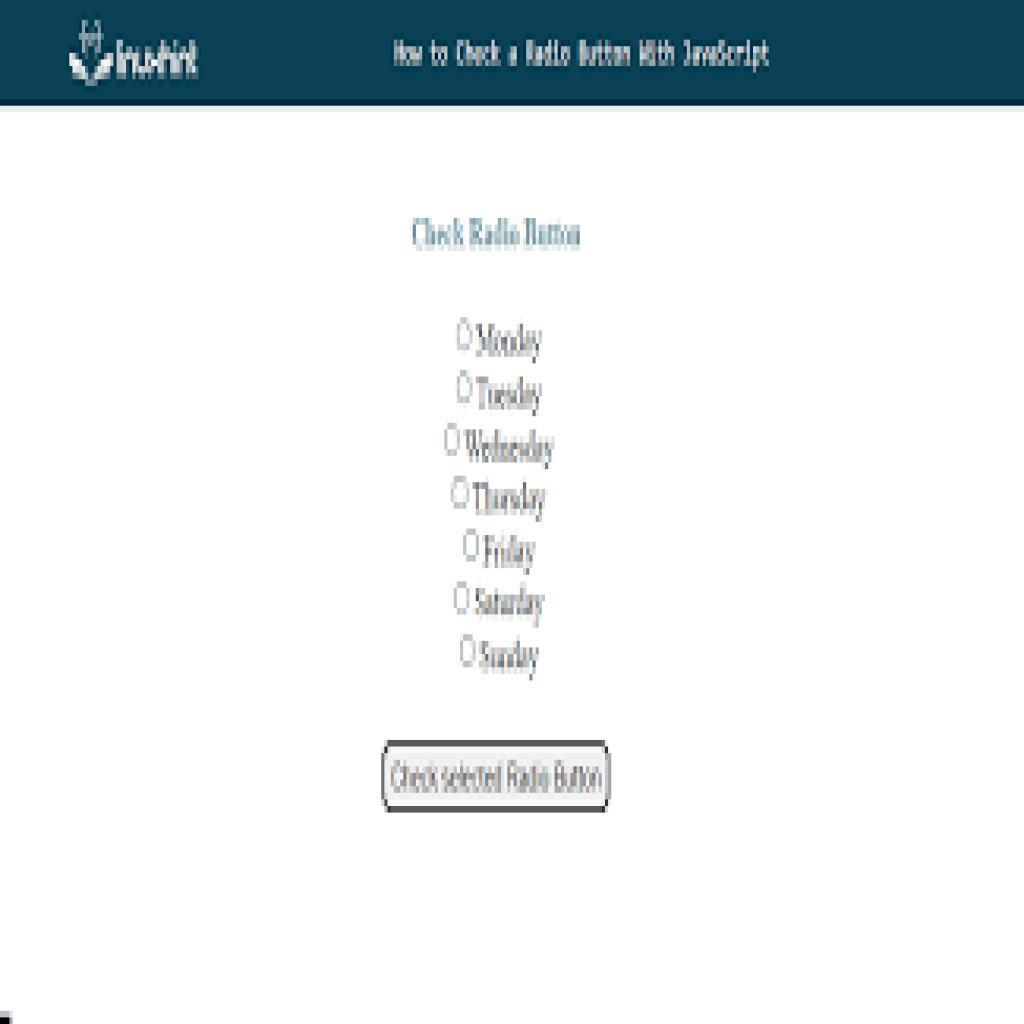button: (385, 741, 610, 812)
label: (411, 215, 585, 258), (468, 429, 555, 470), (475, 370, 549, 418), (473, 477, 549, 520), (474, 585, 548, 626), (474, 324, 544, 362), (481, 639, 545, 679), (483, 529, 538, 570)
radio: (462, 528, 483, 568), (455, 317, 478, 352), (443, 420, 463, 459), (454, 580, 473, 620), (451, 474, 471, 512), (458, 632, 478, 668), (454, 369, 474, 405)
